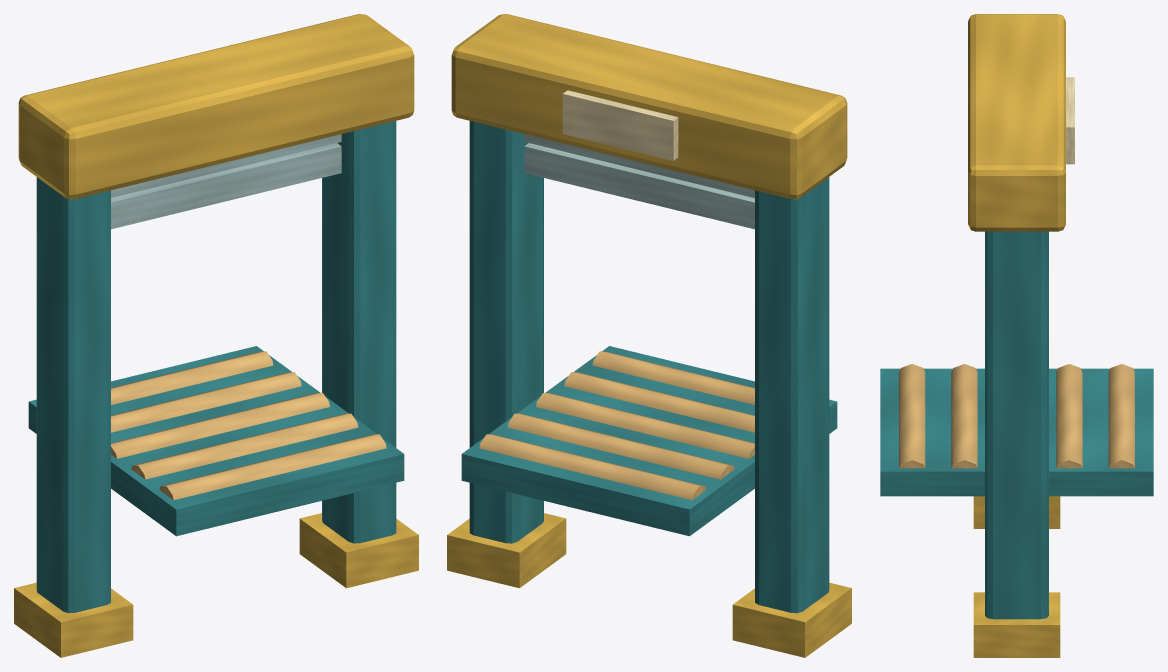
File: industry-delivery-hatch.glb
3 views of the same model, side by side, from view 1: azimuth 30°, elevation 25°; view 2: azimuth 150°, elevation 25°; view 3: azimuth 270°, elevation 25° (orthographic). The views are drawn at different scales.
Parts seen in each view (by area): view 1: industry-delivery-hatch-mesh; view 2: industry-delivery-hatch-mesh; view 3: industry-delivery-hatch-mesh.
Boxes of the visible parts, <box> form: industry-delivery-hatch-mesh: <box>14,14,418,657</box>; industry-delivery-hatch-mesh: <box>447,14,851,657</box>; industry-delivery-hatch-mesh: <box>880,14,1153,657</box>.
Size of the model in its own units: 1.68 by 2.36 by 1.2.
1 material, 1 textured.
